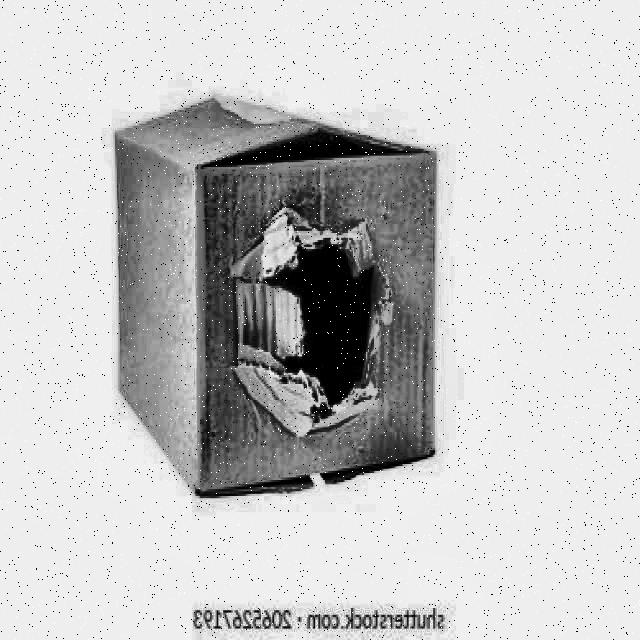box: (83, 90, 456, 527)
hole: (222, 222, 402, 458)
